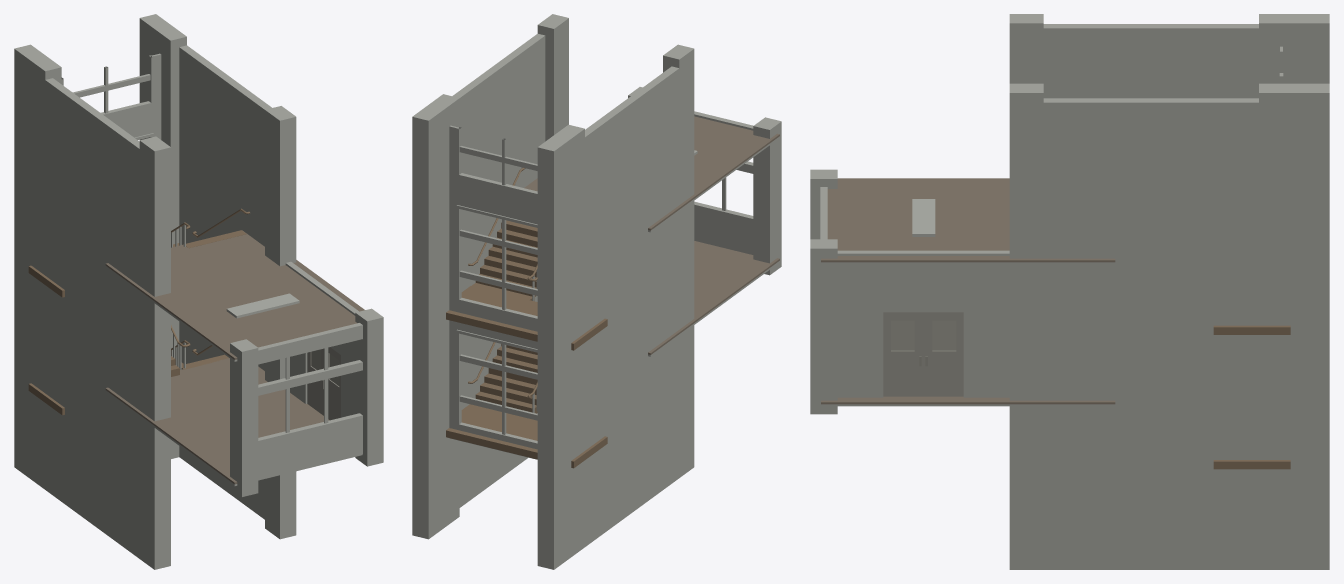
File: school_staircase.fbx
3 renders of one model, left to right at view 1: azimuth 30°, elevation 25°; view 2: azimuth 150°, elevation 25°; view 3: azimuth 270°, elevation 25°, orthographic. The views are drawn at different scales.
Parts seen in each view (by area): view 1: pPlane331 (×6), pPlane333 (×5), pPlane330 (×6), pPlane322, pPlane328, pPlane324, pPlane327, pPlane326, pPlane336, pPlane319 (×2), pPlane338, pPlane318 (+4 smaller); view 2: pPlane331 (×6), pPlane333 (×6), pPlane330 (×4), pPlane319 (×5), pPlane322, pPlane328, pPlane318 (×5), pPlane327, pPlane317 (×5), pPlane324, group92_pPlane308, group92_pPlane305 (+4 smaller); view 3: pPlane331 (×4), pPlane333 (×4), pPlane336, pPlane330 (×4), pPlane322, pPlane326, polySurface432, polySurface433, pPlane328, polySurface434, pPlane327, pPlane338 (+2 smaller).
Part boxes in pixels (box(x1,y1,x2,y2)): pPlane331 (×6): box(36, 45, 271, 563); pPlane333 (×5): box(14, 14, 186, 489); pPlane330 (×6): box(139, 106, 296, 569); pPlane322: box(105, 230, 364, 361); pPlane328: box(105, 358, 362, 486); pPlane324: box(258, 323, 362, 479); pPlane327: box(230, 339, 258, 496); pPlane326: box(355, 308, 383, 466); pPlane336: box(285, 261, 358, 417); pPlane319 (×2): box(106, 53, 161, 139); pPlane338: box(226, 293, 299, 318); pPlane318: box(73, 66, 150, 113); pPlane331 (×6): box(452, 33, 688, 546); pPlane333 (×6): box(412, 94, 584, 569); pPlane330 (×4): box(537, 14, 694, 473); pPlane319 (×5): box(449, 125, 537, 459); pPlane322: box(524, 116, 779, 232); pPlane328: box(648, 241, 779, 356); pPlane318 (×5): box(459, 138, 537, 434); pPlane327: box(753, 117, 781, 275); pPlane317 (×5): box(456, 127, 537, 446); pPlane324: box(694, 111, 753, 254); group92_pPlane308: box(446, 404, 607, 468); group92_pPlane305: box(471, 220, 537, 300); pPlane331 (×4): box(1023, 24, 1278, 569); pPlane333 (×4): box(1259, 14, 1329, 569); pPlane336: box(837, 250, 1009, 397); pPlane330 (×4): box(1009, 14, 1043, 569); pPlane322: box(821, 178, 1115, 264); pPlane326: box(810, 239, 837, 414); polySurface432: box(883, 312, 923, 396); polySurface433: box(923, 312, 963, 396); pPlane328: box(821, 396, 1115, 406); polySurface434: box(891, 320, 956, 350); pPlane327: box(810, 169, 837, 239); pPlane338: box(912, 199, 935, 236).
Bounding box in the file's own units: 5.62 × 15.26 × 15.05.
